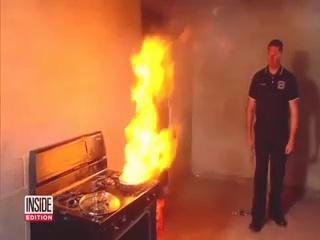Fire: (116, 57, 201, 186)
